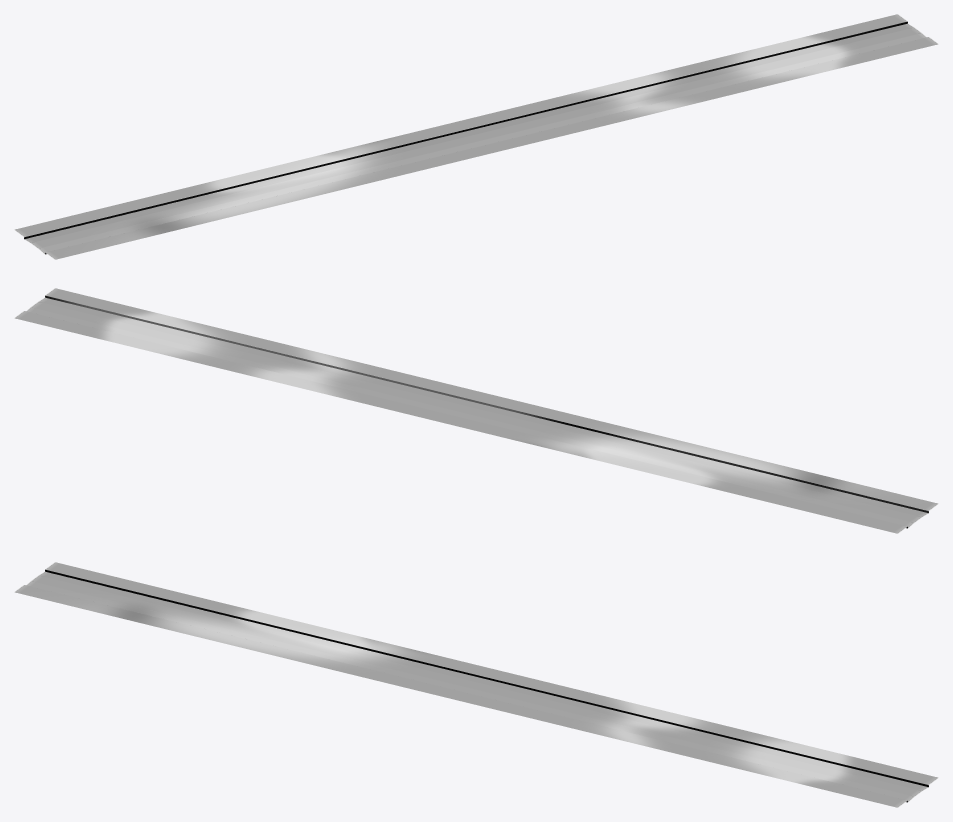
File: rua2.dae
The picture shows the model from 3 angles, top to bottom: view 1: azimuth 30°, elevation 25°; view 2: azimuth 150°, elevation 25°; view 3: azimuth 330°, elevation 25°; orthographic projection.
Visible parts, largest first — view 1: Plane; view 2: Plane; view 3: Plane.
Part boxes in pixels (x1,y1,x2,y2): Plane: [14, 14, 938, 259]; Plane: [14, 288, 938, 533]; Plane: [14, 562, 938, 807].
Bounding box in the file's own units: 1.22 × 0.0983 × 0.00276.
1 material, 1 textured.
